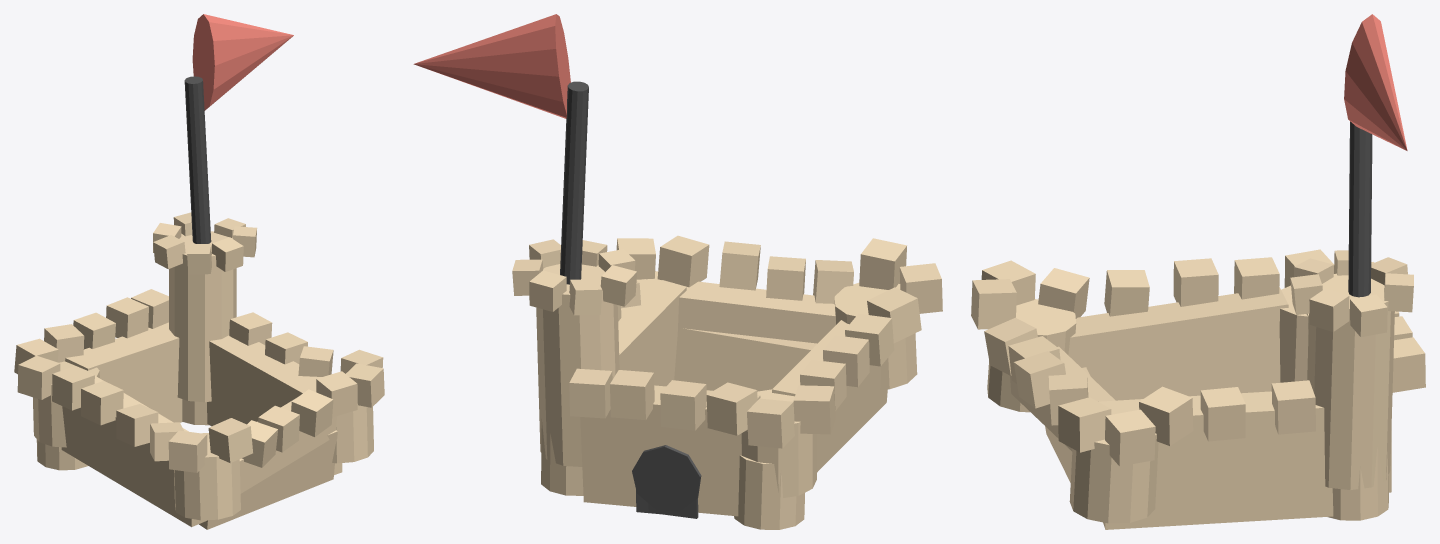
The model's file is castle.glb.
The picture shows the model from 3 angles, left to right: view 1: azimuth 30°, elevation 25°; view 2: azimuth 150°, elevation 25°; view 3: azimuth 270°, elevation 25°; orthographic projection. The views are drawn at different scales.
Parts seen in each view (by area): view 1: group353972852, group1058340323, group1440120009, group413973011, group1857525404, group25750851, group433606943, group959979667, group29553440, group1802741093, group703828313, group1777507823 (+26 smaller); view 2: group413973011, group353972852, group1857525404, group1802741093, group433606943, group1058340323, group959979667, group1440120009, group1273789951, group1223738204, group703828313, group25750851 (+23 smaller); view 3: group1440120009, group1058340323, group353972852, group29553440, group1857525404, group959979667, group25750851, group2108004734, group413777141, group1030786523, group165315536, group703828313 (+22 smaller).
Part boxes in pixels (box(x1,y1,x2,y2)): group353972852: box(169, 231, 236, 402); group1058340323: box(207, 335, 342, 474); group1440120009: box(61, 373, 207, 527); group413973011: box(65, 322, 182, 422); group1857525404: box(192, 14, 293, 110); group25750851: box(174, 433, 240, 520); group433606943: box(199, 430, 337, 529); group959979667: box(184, 76, 211, 243); group29553440: box(332, 404, 373, 463); group1802741093: box(239, 398, 337, 493); group703828313: box(33, 361, 99, 447); group1777507823: box(208, 418, 252, 463); group413973011: box(580, 385, 760, 516); group353972852: box(536, 264, 619, 466); group1857525404: box(413, 14, 570, 118); group1802741093: box(661, 280, 835, 343); group433606943: box(674, 328, 816, 391); group1058340323: box(618, 279, 686, 386); group959979667: box(560, 81, 588, 284); group1440120009: box(772, 320, 887, 472); group1273789951: box(734, 455, 804, 529); group1223738204: box(632, 445, 701, 511); group703828313: box(741, 389, 816, 497); group25750851: box(834, 282, 917, 389); group1440120009: box(1068, 287, 1288, 400); group1058340323: box(1098, 391, 1333, 529); group353972852: box(1307, 273, 1394, 489); group29553440: box(1069, 433, 1158, 523); group1857525404: box(1344, 14, 1407, 150); group959979667: box(1348, 121, 1372, 297); group25750851: box(987, 299, 1076, 412); group2108004734: box(1105, 409, 1155, 466); group413777141: box(1058, 397, 1111, 452); group1030786523: box(1200, 387, 1245, 441); group165315536: box(1139, 386, 1193, 445); group703828313: box(1279, 285, 1308, 382).
Size of the model in its own units: 0.4781 by 0.5766 by 0.4761.
